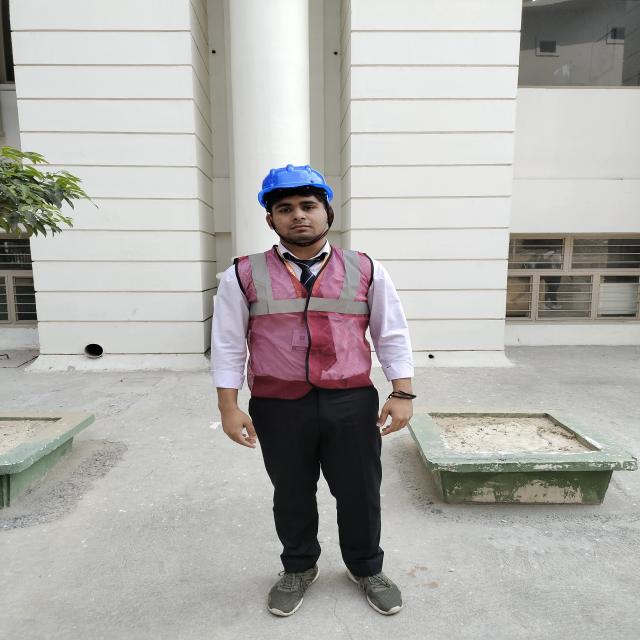safe: (211, 164, 413, 616)
